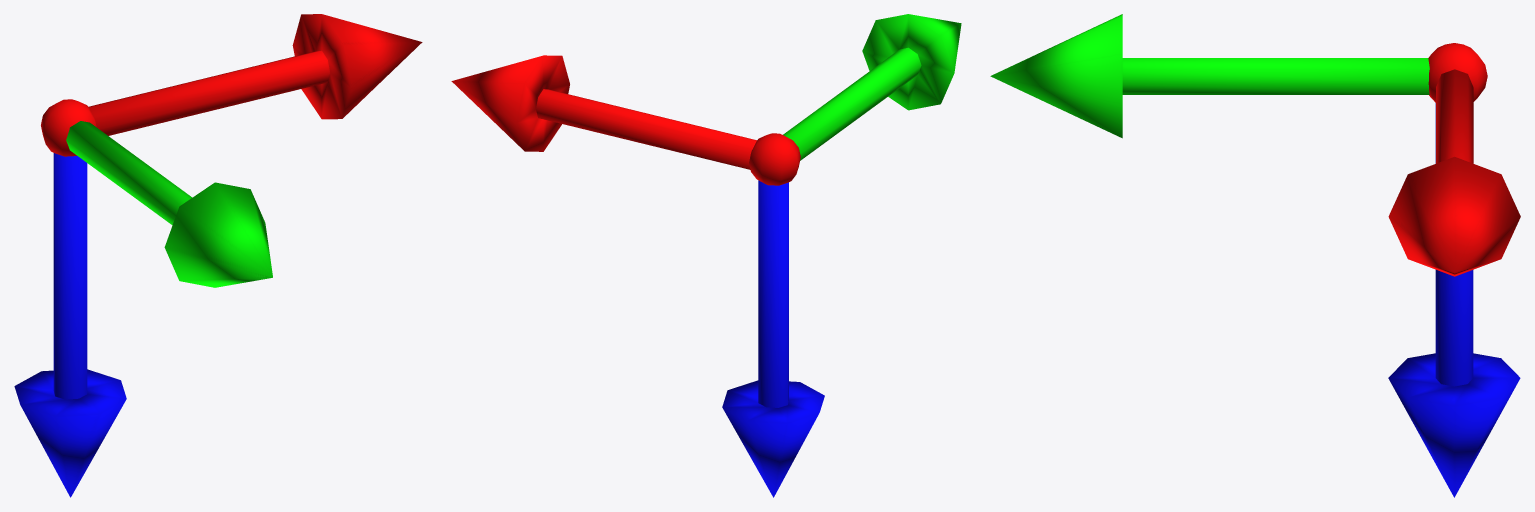
Rendered from FrameGizmo.dae.
3 views of the same model, side by side, from view 1: azimuth 30°, elevation 25°; view 2: azimuth 150°, elevation 25°; view 3: azimuth 270°, elevation 25° (orthographic). The views are drawn at different scales.
Visible parts, largest first — view 1: Cone_002, Cone_001, Cone, Sphere; view 2: Cone_002, Cone_001, Cone, Sphere; view 3: Cone, Cone_001, Cone_002, Sphere.
Part boxes in pixels (x1,y1,x2,y2): Cone_002: (14,153,126,497); Cone_001: (88,14,422,135); Cone: (66,121,272,287); Sphere: (41,99,96,156); Cone_002: (722,180,824,497); Cone_001: (451,55,756,169); Cone: (783,14,961,160); Sphere: (749,133,800,185); Cone: (990,14,1429,138); Cone_001: (1388,69,1520,276); Cone_002: (1388,103,1520,497); Sphere: (1428,43,1487,102).
Size of the model in its own units: 1.27 by 1.27 by 1.27.
3 materials, 3 textured.
